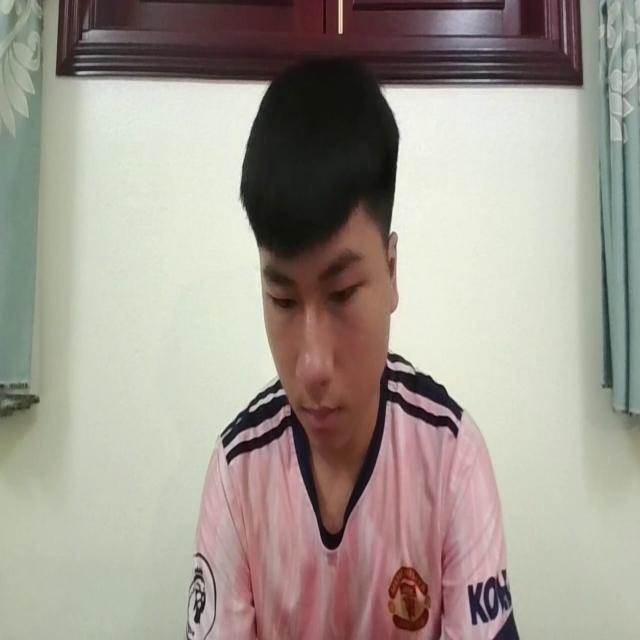student: (178, 53, 514, 640)
